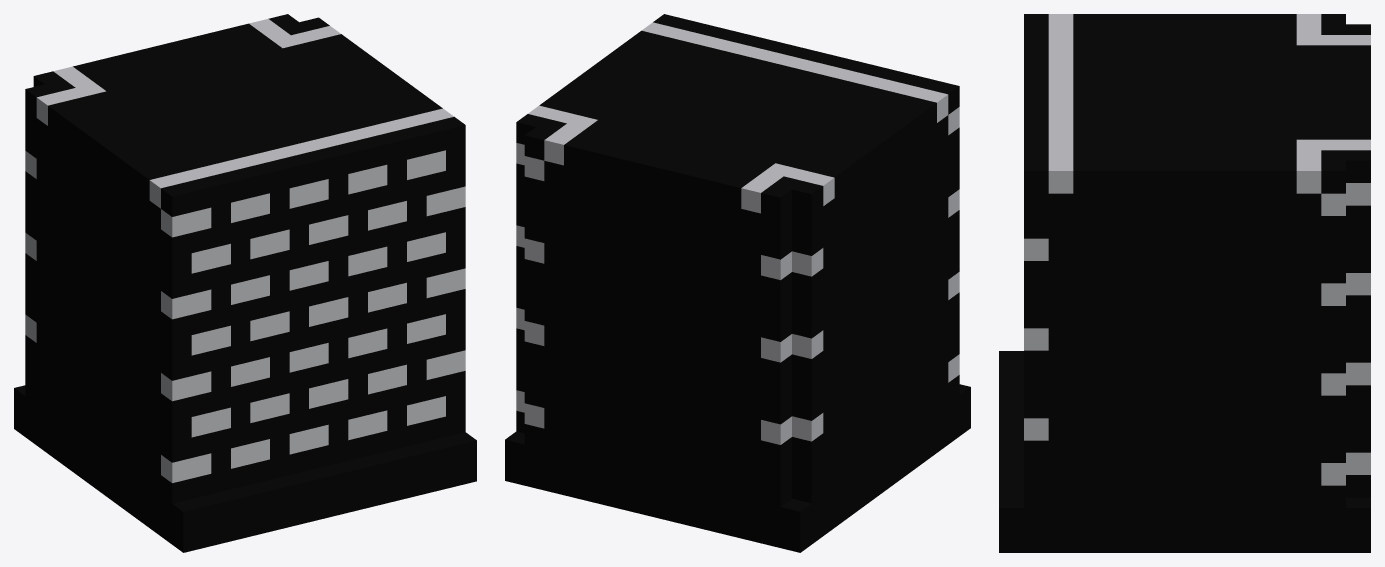
Rendered from dungeon_d_a_inner_wall_segment_b_flipped.obj.
3 views of the same model, side by side, from view 1: azimuth 30°, elevation 25°; view 2: azimuth 150°, elevation 25°; view 3: azimuth 270°, elevation 25° (orthographic). The views are drawn at different scales.
Bounding box in the file's own units: 1.5 × 1.7 × 1.5.
Materials: 1 (1 with a texture image).
